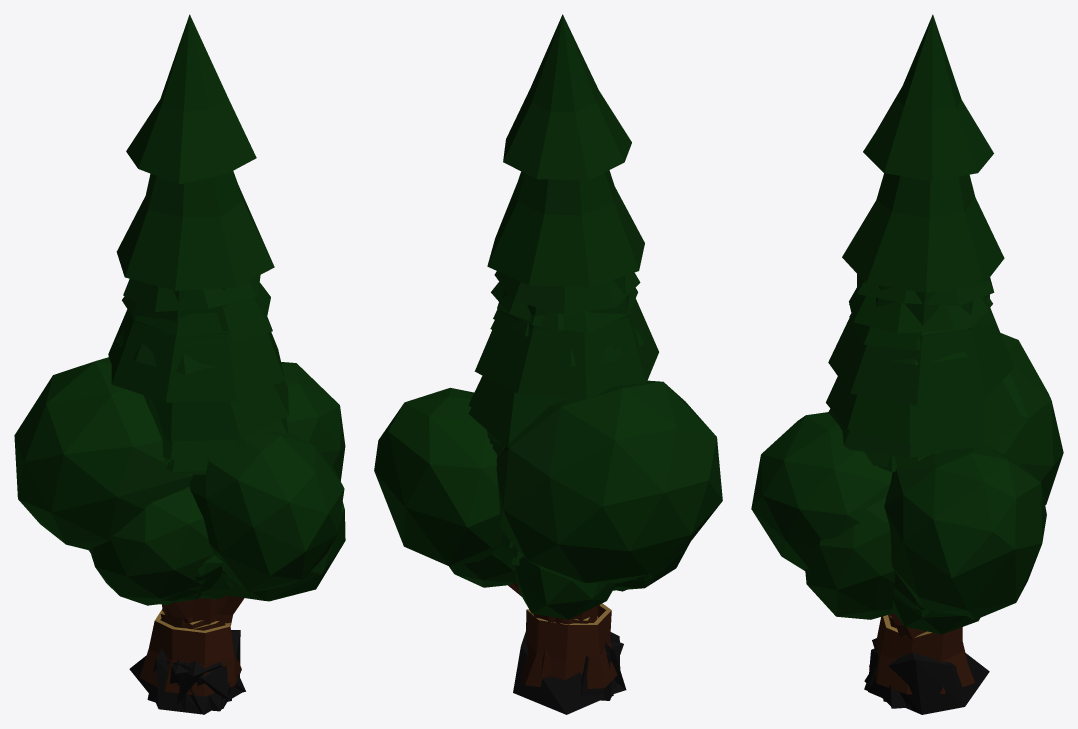
The model's file is AppReady.obj.
3 views of the same model, side by side, from view 1: azimuth 30°, elevation 25°; view 2: azimuth 150°, elevation 25°; view 3: azimuth 270°, elevation 25° (orthographic).
Visible parts, largest first — view 1: TreeOak_3_Small_Tree-07, TreePine_5_Tall_Tree-05, TreeOak_1_Small_Tree-05, TreePine_3_Tall_Tree-03, TreeStump_2_Stump-02, TreePine_1_Tall_Tree-01, TreePine_8_Tall_Tree-08, TreeOak_2_Small_Tree-06, TreePine_6_Tall_Tree-06, RockGrey_8_Rock-08, TreePine_2_Tall_Tree-02, TreeOak_4_Small_Tree-08 (+4 smaller); view 2: TreeOak_3_Small_Tree-07, TreePine_5_Tall_Tree-05, TreeStump_2_Stump-02, TreePine_8_Tall_Tree-08, TreePine_3_Tall_Tree-03, TreeOak_2_Small_Tree-06, RockGrey_3_Rock-03, TreeOak_1_Small_Tree-05, TreePine_1_Tall_Tree-01, TreePine_7_Tall_Tree-07; view 3: TreeOak_3_Small_Tree-07, TreePine_5_Tall_Tree-05, TreePine_3_Tall_Tree-03, TreeOak_2_Small_Tree-06, TreePine_8_Tall_Tree-08, RockGrey_3_Rock-03, TreeStump_2_Stump-02, TreePine_6_Tall_Tree-06, TreeOak_1_Small_Tree-05, TreePine_4_Tall_Tree-04.
Boxes of the visible parts, bbox=[...] form: TreeOak_3_Small_Tree-07: bbox=[14, 357, 345, 592]; TreePine_5_Tall_Tree-05: bbox=[108, 14, 284, 402]; TreeOak_1_Small_Tree-05: bbox=[89, 486, 214, 623]; TreePine_3_Tall_Tree-03: bbox=[123, 275, 288, 622]; TreeStump_2_Stump-02: bbox=[139, 609, 241, 696]; TreePine_1_Tall_Tree-01: bbox=[122, 296, 236, 459]; TreePine_8_Tall_Tree-08: bbox=[192, 282, 288, 624]; TreeOak_2_Small_Tree-06: bbox=[89, 501, 345, 626]; TreePine_6_Tall_Tree-06: bbox=[162, 317, 272, 628]; RockGrey_8_Rock-08: bbox=[155, 649, 200, 714]; TreePine_2_Tall_Tree-02: bbox=[115, 330, 210, 474]; TreeOak_4_Small_Tree-08: bbox=[159, 550, 222, 605]; TreeOak_3_Small_Tree-07: bbox=[374, 380, 722, 624]; TreePine_5_Tall_Tree-05: bbox=[474, 14, 658, 398]; TreeStump_2_Stump-02: bbox=[522, 603, 617, 688]; TreePine_8_Tall_Tree-08: bbox=[468, 282, 568, 556]; TreePine_3_Tall_Tree-03: bbox=[468, 271, 640, 547]; TreeOak_2_Small_Tree-06: bbox=[514, 556, 616, 619]; RockGrey_3_Rock-03: bbox=[513, 631, 604, 714]; TreeOak_1_Small_Tree-05: bbox=[449, 542, 690, 607]; TreePine_1_Tall_Tree-01: bbox=[497, 288, 637, 333]; TreePine_7_Tall_Tree-07: bbox=[490, 346, 623, 681]; TreeOak_3_Small_Tree-07: bbox=[751, 333, 1063, 619]; TreePine_5_Tall_Tree-05: bbox=[828, 14, 1014, 405]; TreePine_3_Tall_Tree-03: bbox=[826, 274, 994, 633]; TreeOak_2_Small_Tree-06: bbox=[805, 497, 923, 643]; TreePine_8_Tall_Tree-08: bbox=[828, 287, 1024, 457]; RockGrey_3_Rock-03: bbox=[868, 652, 989, 714]; TreeStump_2_Stump-02: bbox=[869, 614, 975, 694]; TreePine_6_Tall_Tree-06: bbox=[849, 312, 999, 450]; TreeOak_1_Small_Tree-05: bbox=[892, 595, 979, 634]; TreePine_4_Tall_Tree-04: bbox=[841, 336, 1000, 467].
Size of the model in its own units: 7.03 by 14.19 by 5.88.
